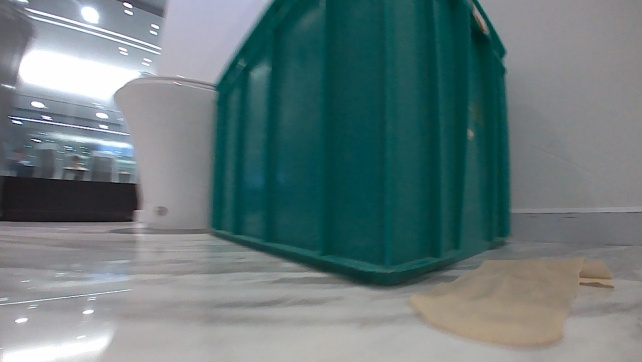socks: (403, 253, 616, 347)
toilet: (105, 72, 213, 234)
